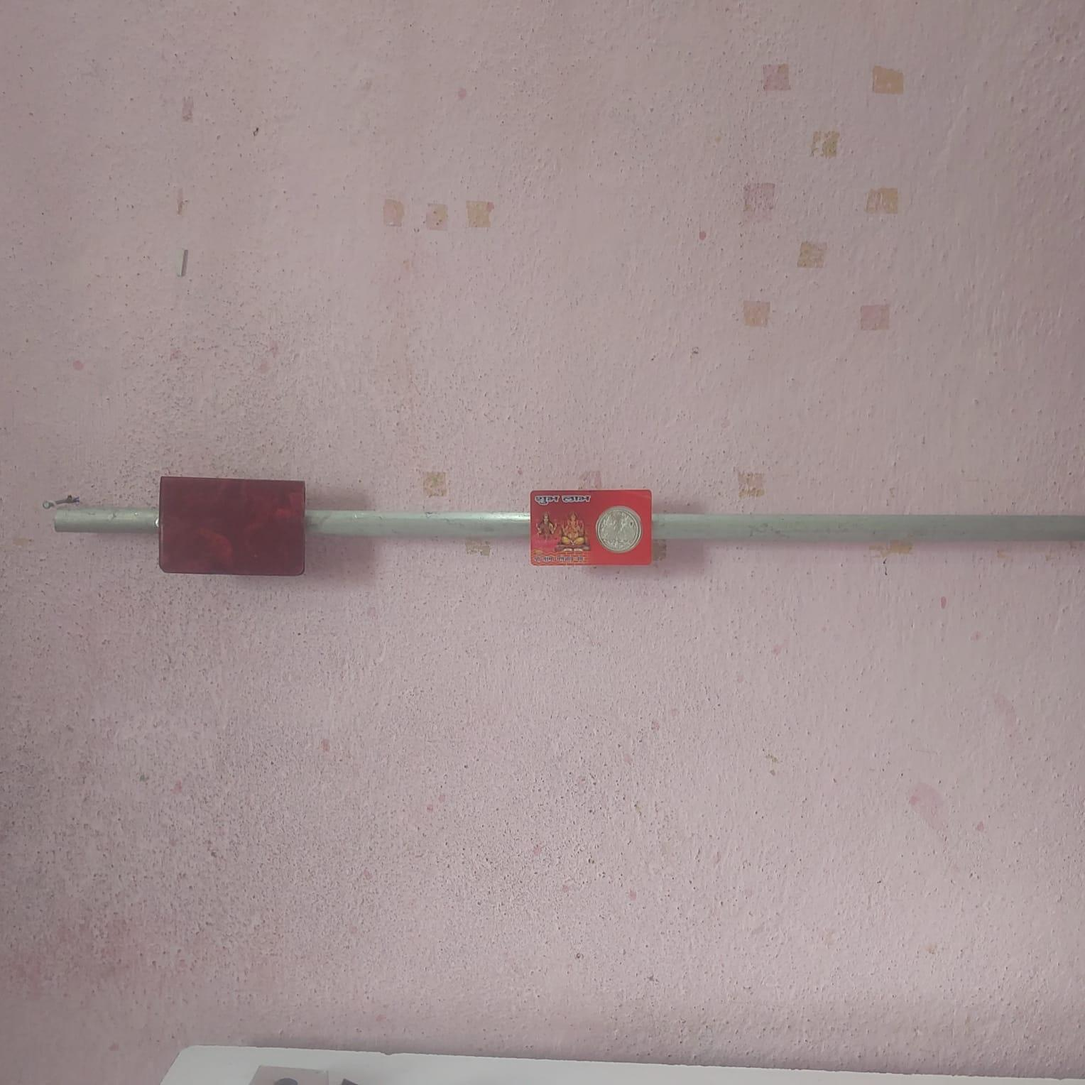blessing_card: (525, 482, 660, 566)
wallet: (156, 473, 315, 578)
